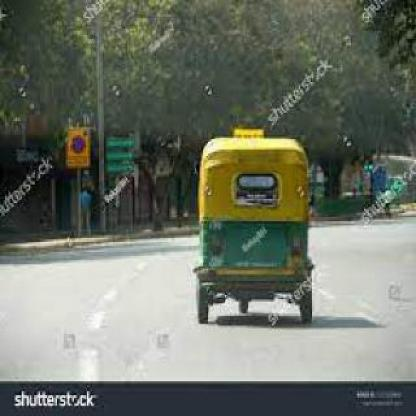auto-rikshaw: (184, 124, 352, 346)
